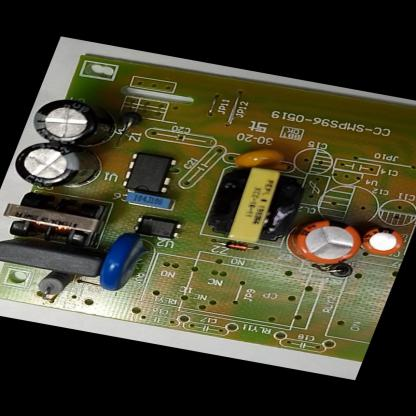Cap1: (278, 209, 371, 274)
Cap2: (350, 219, 414, 264)
Cap3: (7, 135, 112, 196)
Cap4: (25, 90, 132, 156)
MOSFET: (111, 145, 188, 200)
Mov: (89, 224, 161, 301)
Resistor: (26, 268, 73, 301)
Transformer: (197, 158, 317, 252), (0, 184, 112, 255)
